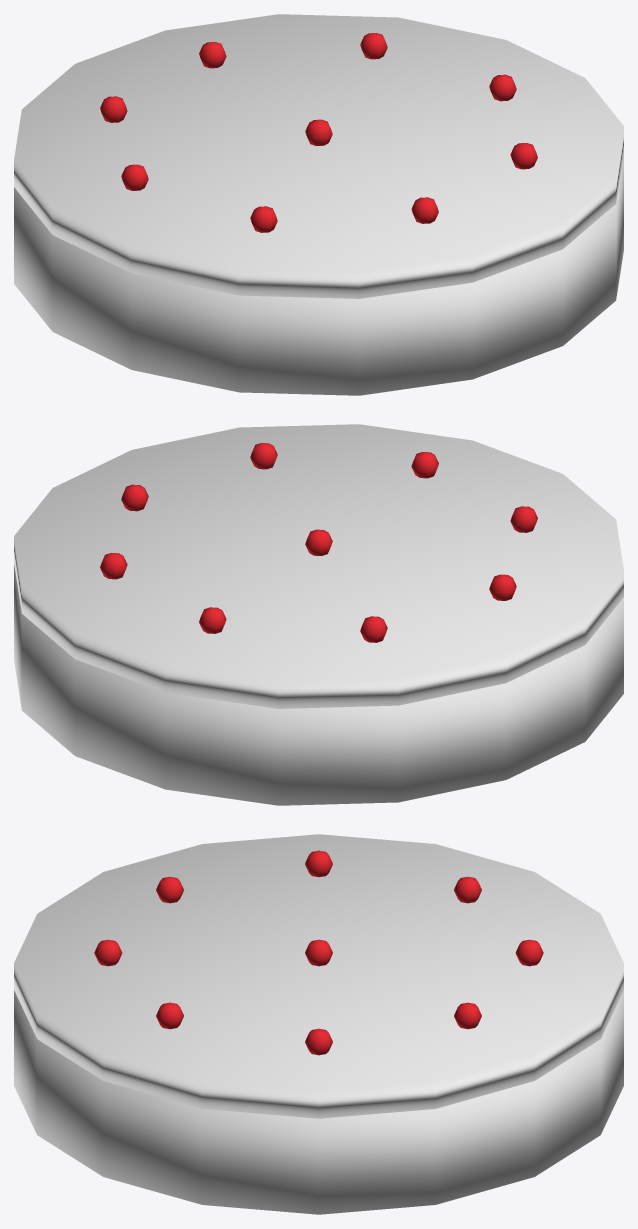
Rendered from test_Cake01_Smooth.fbx.
The picture shows the model from 3 angles, top to bottom: view 1: azimuth 30°, elevation 25°; view 2: azimuth 150°, elevation 25°; view 3: azimuth 270°, elevation 25°; orthographic projection.
Parts seen in each view (by area): view 1: Cylinder.005, Cylinder.003, Sphere.001, Sphere; view 2: Cylinder.005, Cylinder.003, Sphere.001, Sphere; view 3: Cylinder.005, Cylinder.003, Sphere.001, Sphere.
Boxes of the visible parts, left/top/right/bottom form: Cylinder.005: left=14, top=14, right=623, bottom=298; Cylinder.003: left=14, top=154, right=623, bottom=395; Sphere.001: left=100, top=33, right=537, bottom=232; Sphere: left=305, top=119, right=332, bottom=145; Cylinder.005: left=14, top=424, right=623, bottom=708; Cylinder.003: left=14, top=564, right=623, bottom=805; Sphere.001: left=100, top=443, right=537, bottom=642; Sphere: left=305, top=529, right=332, bottom=555; Cylinder.005: left=14, top=834, right=623, bottom=1118; Cylinder.003: left=14, top=990, right=623, bottom=1214; Sphere.001: left=94, top=850, right=543, bottom=1055; Sphere: left=305, top=939, right=332, bottom=966.
Size of the model in its own units: 215 by 56.75 by 215.
